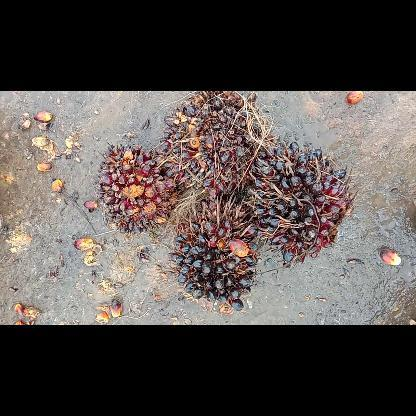TBS abnormal: (242, 139, 360, 269), (168, 197, 260, 314)
TBS masak: (157, 90, 275, 208), (90, 140, 184, 236)
